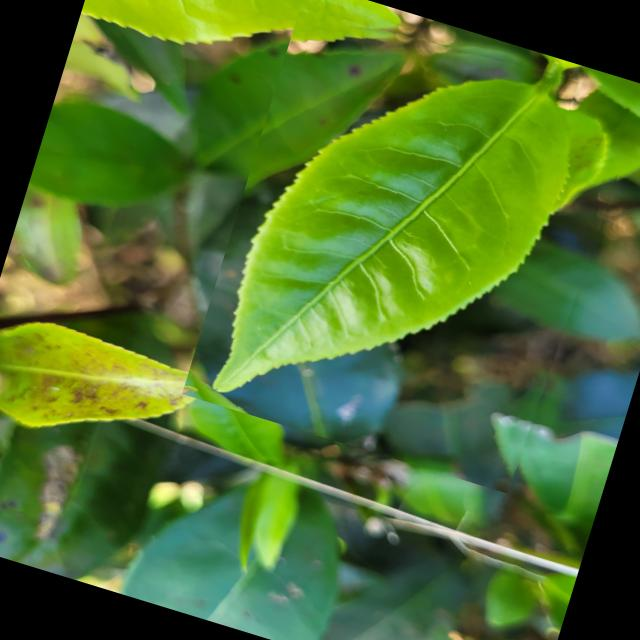Category B(2-4 days): (180, 0, 640, 497)
